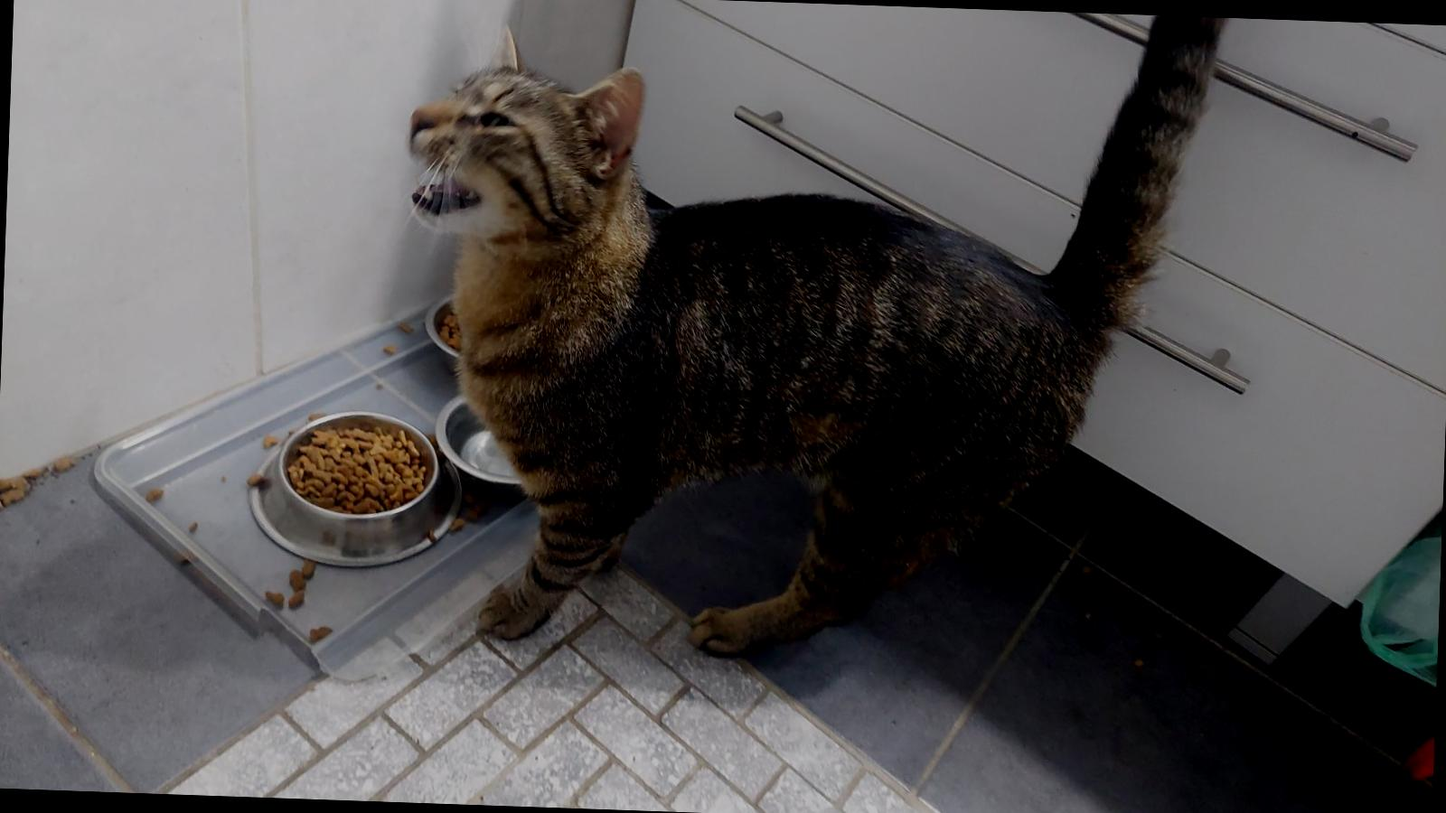macka: (390, 0, 1234, 672)
